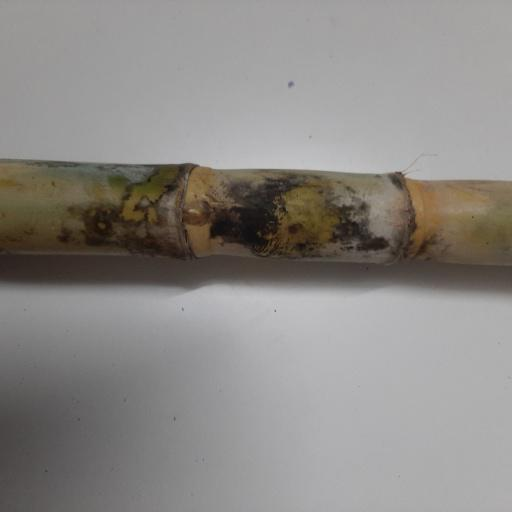Bud: (184, 205, 208, 225)
